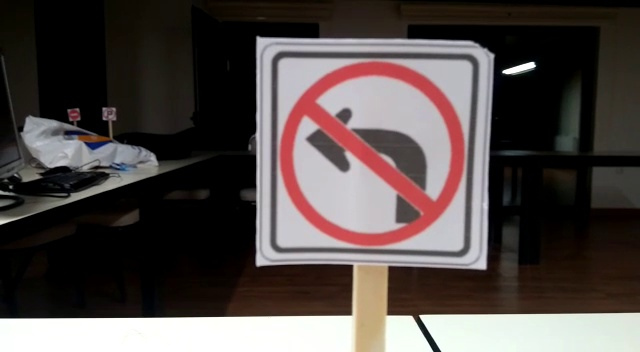sola_donulmez: (262, 43, 485, 262)
